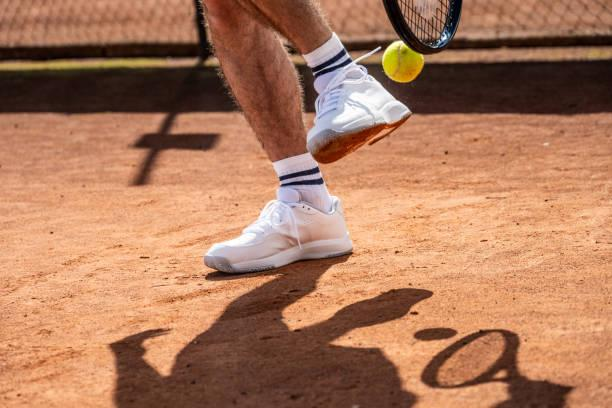ball_tennis: (383, 39, 426, 84)
